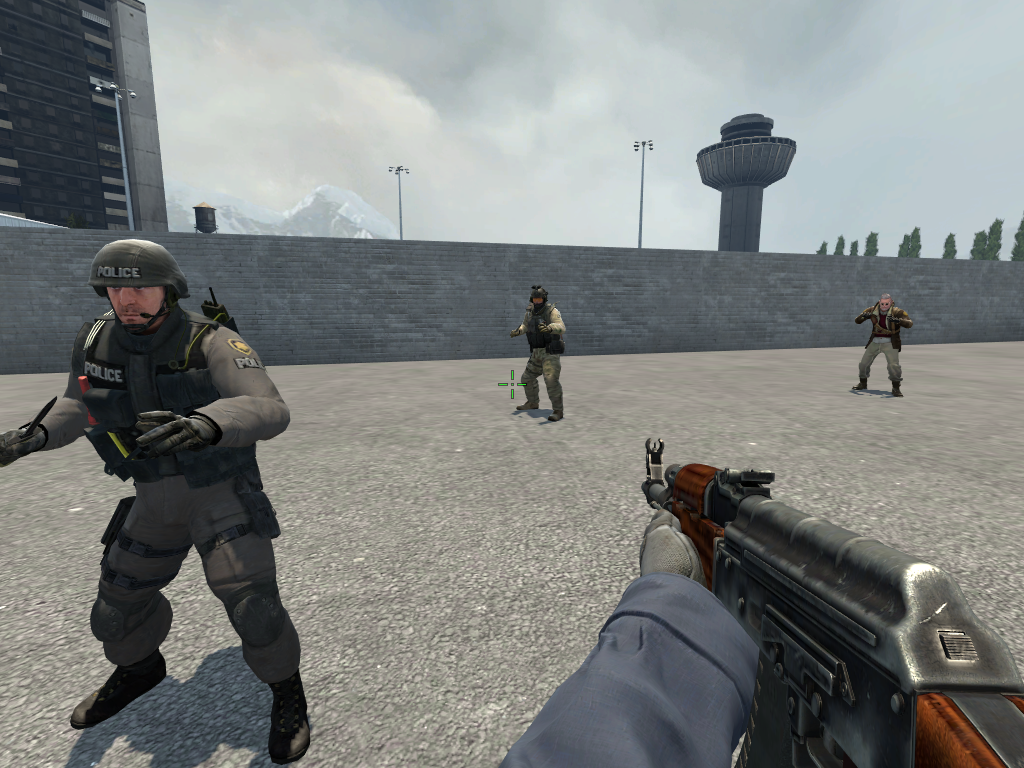ct head: (86, 236, 190, 333), (529, 287, 549, 309)
tr head: (878, 292, 893, 313)
